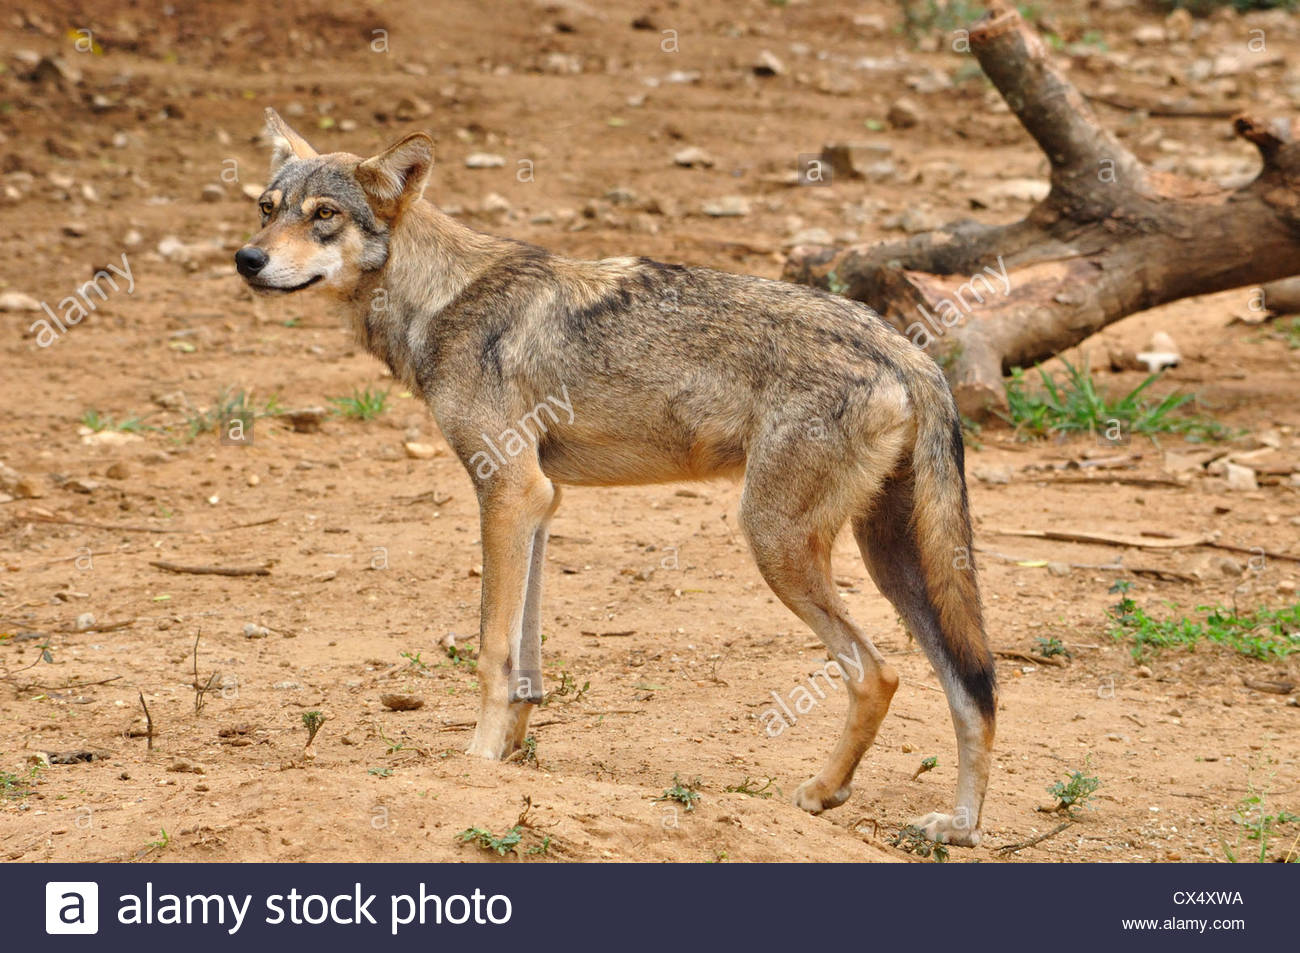dog: (235, 107, 1004, 831)
